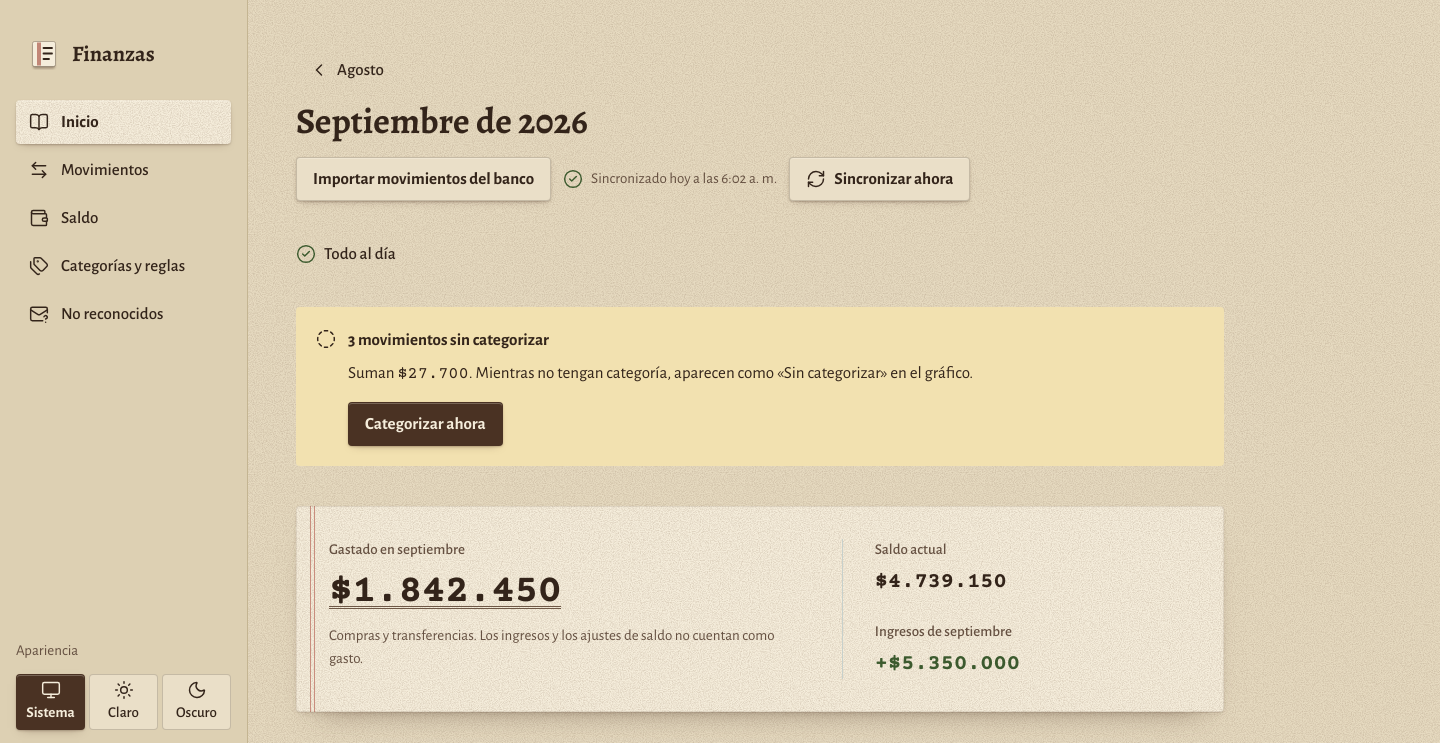
it: Inicio: sincronización › si Gmail rechaza el permiso: aviso arriba con qué hacer y el estado en rojo
Click the button "Sincronizar ahora".
click(880, 179)  # box x1=789 y1=157 x2=970 y2=201
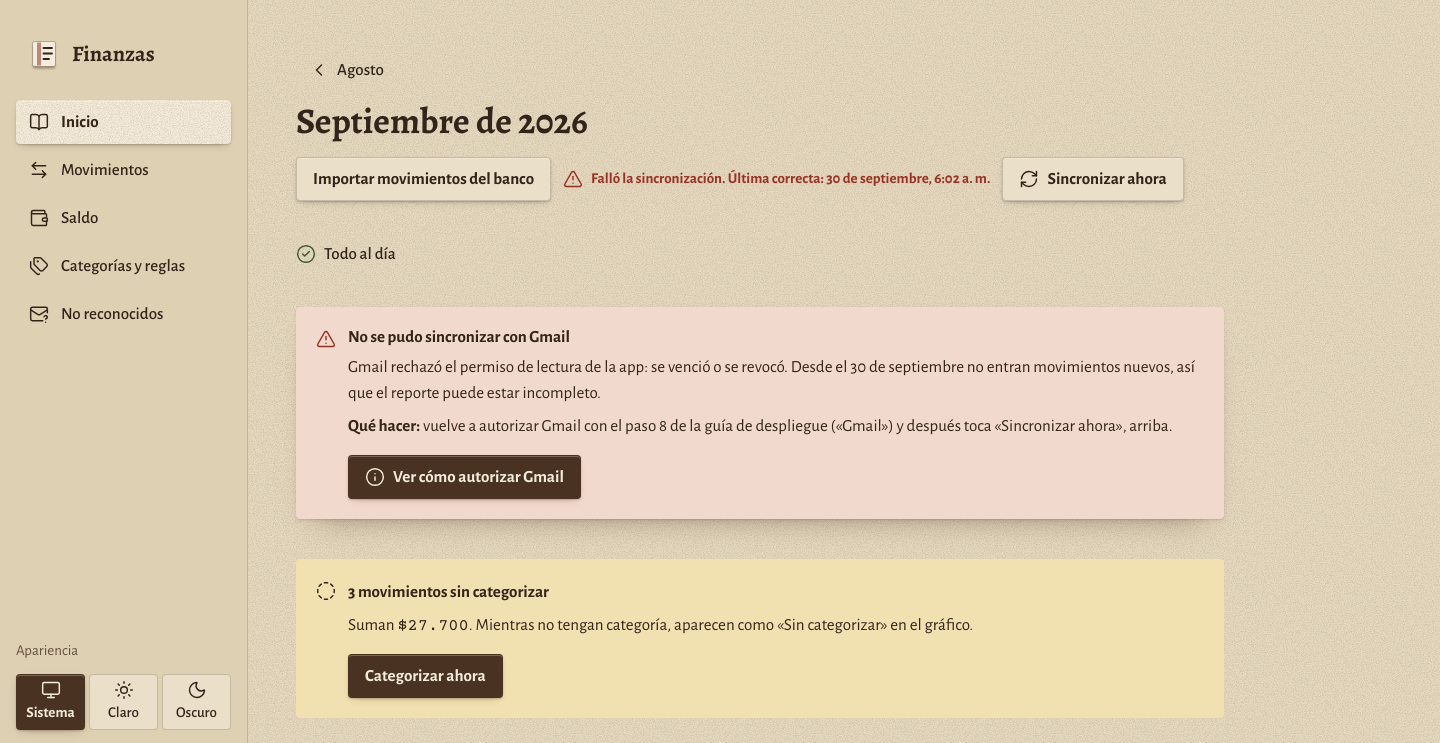
Expected: the heading "No se pudo sincronizar con Gmail" is shown, x1=348 y1=328 x2=570 y2=345
Expected: the message that starts with "No se pudo sincronizar con Gmail" shows "Desde el 30 de septiembre no entran movimientos nuevos", x1=348 y1=358 x2=1195 y2=401
Expected: the message that starts with "No se pudo sincronizar con Gmail" shows "Qué hacer: vuelve a autorizar Gmail con el paso 8", x1=296 y1=307 x2=1224 y2=519
